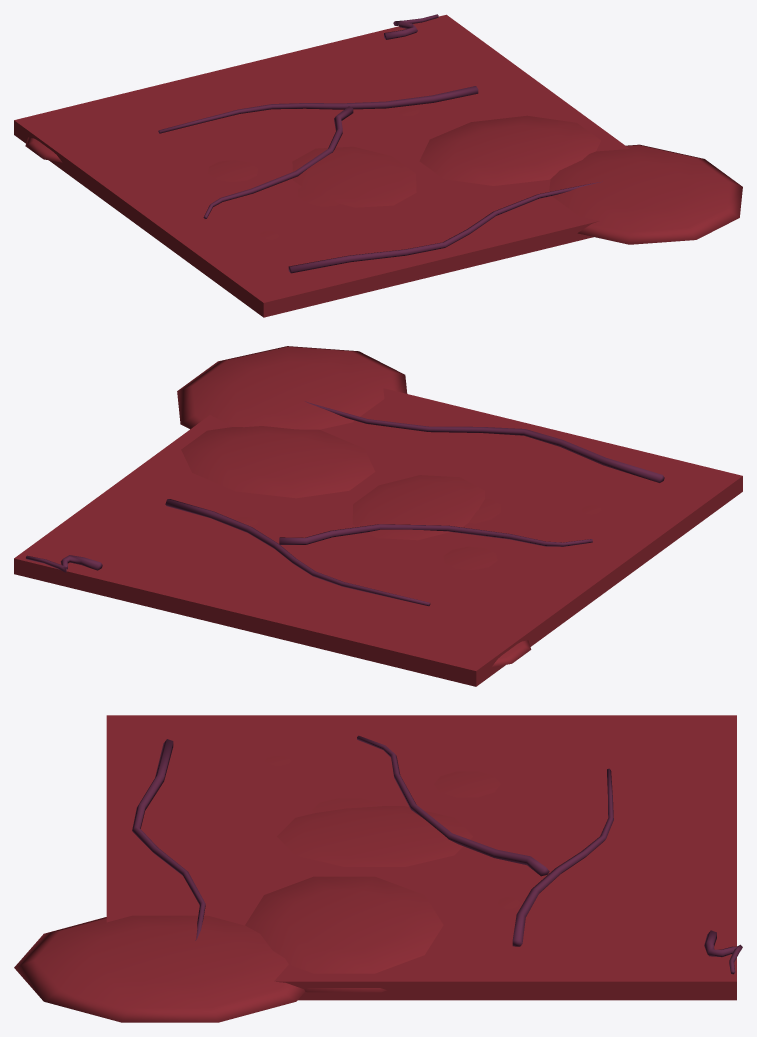
Rendered from SM_Floor_Flesh.fbx.
3 renders of one model, top to bottom at view 1: azimuth 30°, elevation 25°; view 2: azimuth 150°, elevation 25°; view 3: azimuth 270°, elevation 25°, orthographic. The views are drawn at different scales.
Visible parts, largest first — view 1: SM_Floor_Flesh; view 2: SM_Floor_Flesh; view 3: SM_Floor_Flesh.
Part boxes in pixels (<box>): SM_Floor_Flesh: <box>14,14,742,317</box>; SM_Floor_Flesh: <box>14,346,742,686</box>; SM_Floor_Flesh: <box>14,715,742,1022</box>.
Size of what is drawn, in the model's own units: 4.59 by 0.2245 by 4.63.
